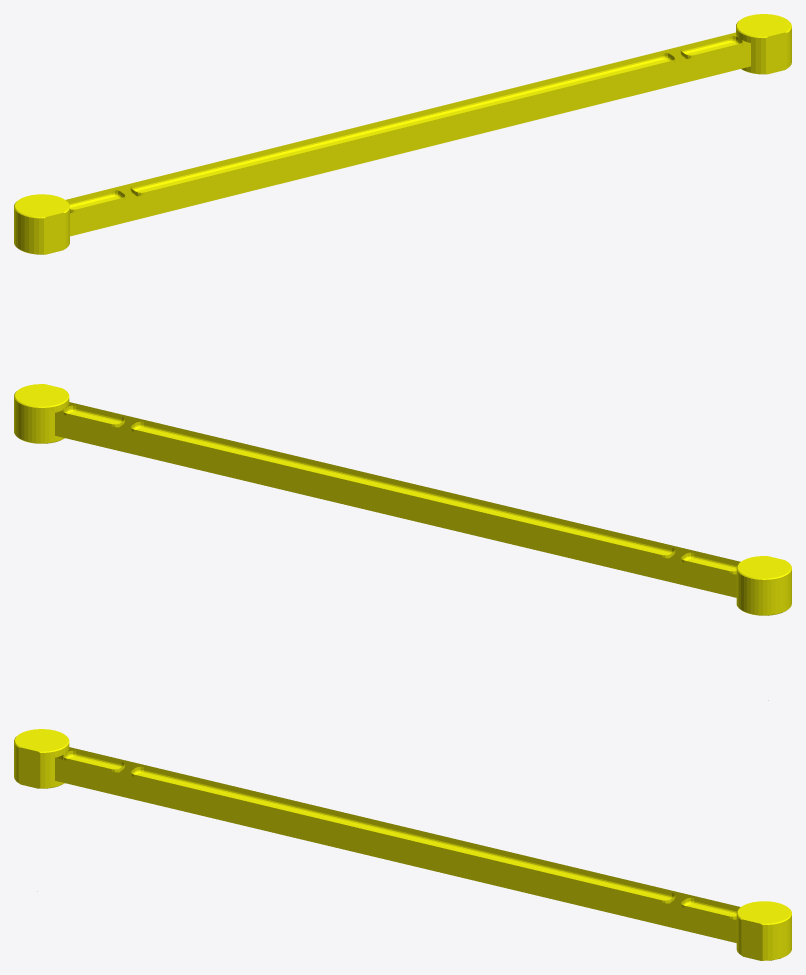
3 renders of one model, top to bottom at view 1: azimuth 30°, elevation 25°; view 2: azimuth 150°, elevation 25°; view 3: azimuth 330°, elevation 25°, orthographic.
Parts seen in each view (by area): view 1: node; view 2: node; view 3: node.
Boxes of the visible parts, x1,y1,x2,y2 form: node: (14, 14, 791, 254); node: (14, 384, 791, 700); node: (14, 729, 791, 960).
Size of the model in its own units: 1387 by 246 by 96.34.
